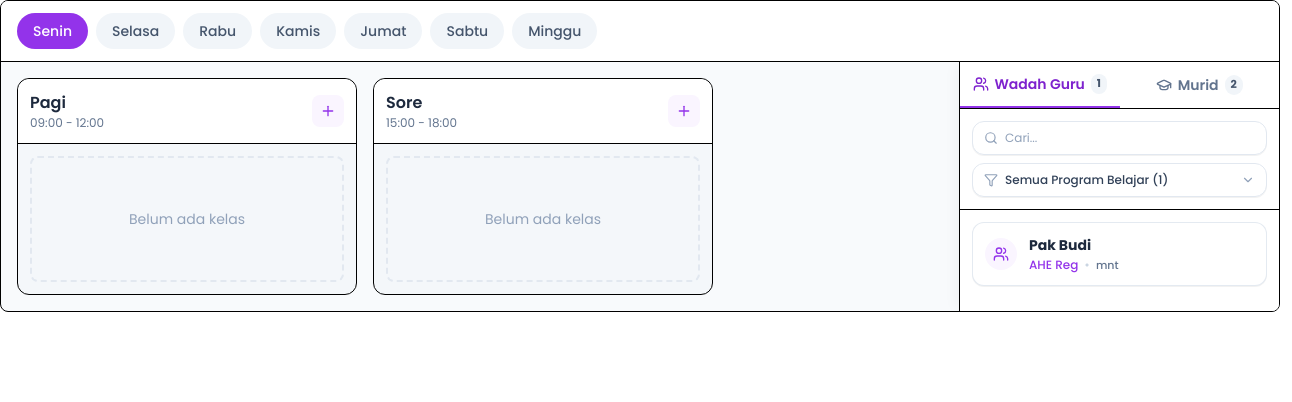
Test: KanbanBoard Component › switches to student tab and renders students
Note: Switch tab
Click the text "Murid".
click(1198, 85)  # box [1178, 75, 1219, 95]
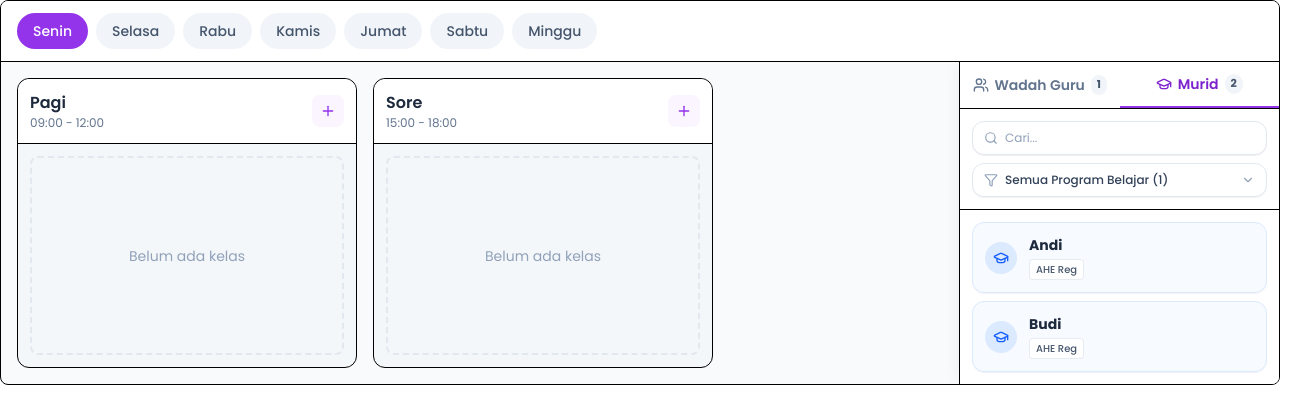
Check: the text "Budi" is shown, box [1029, 314, 1061, 334]
Check: the text "Andi" is shown, box [1029, 235, 1062, 255]
